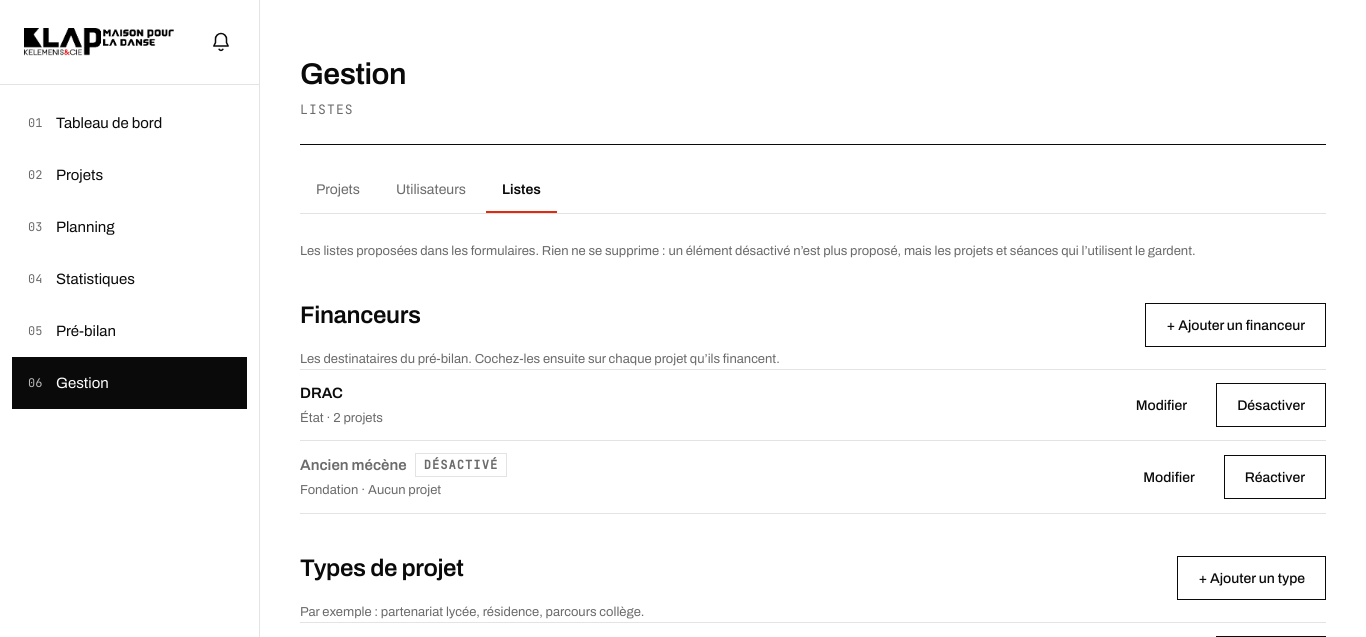
it: Gestion › Listes (#249) › ajoute un financeur, après les contrôles du formulaire
Click the button "+ Ajouter un financeur": (1236, 325) [1146, 303, 1326, 347]
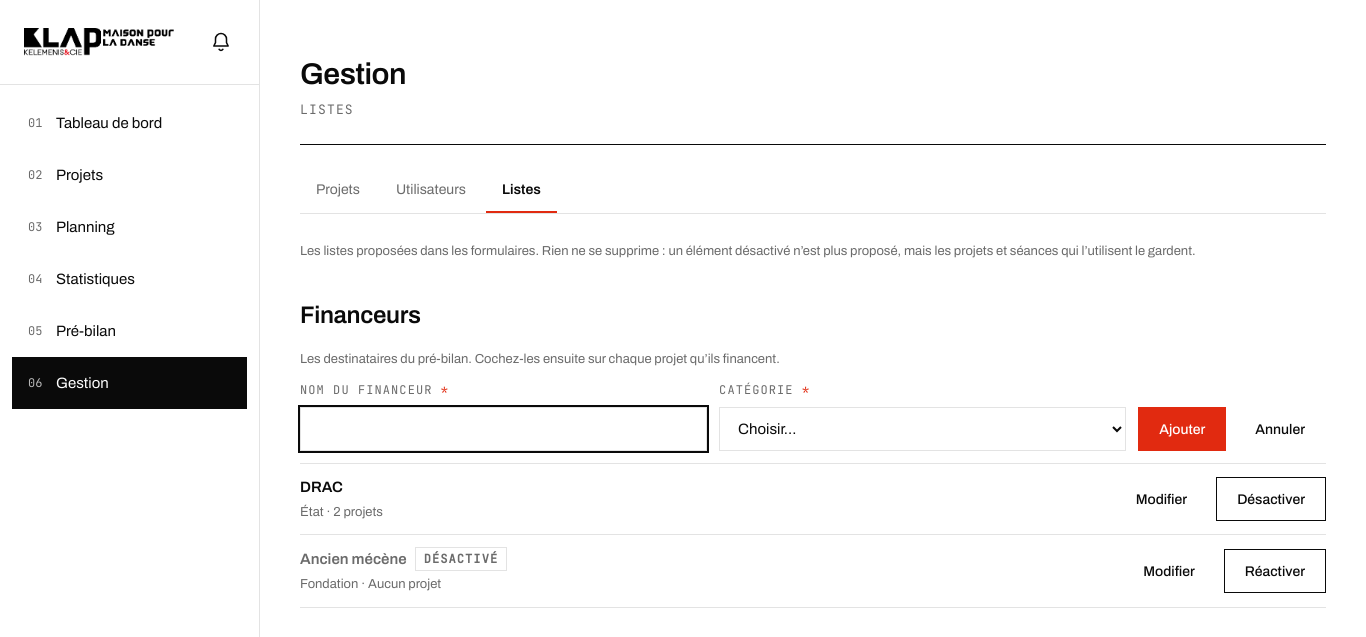
Click the button "Ajouter": (1182, 429) [1138, 407, 1226, 451]
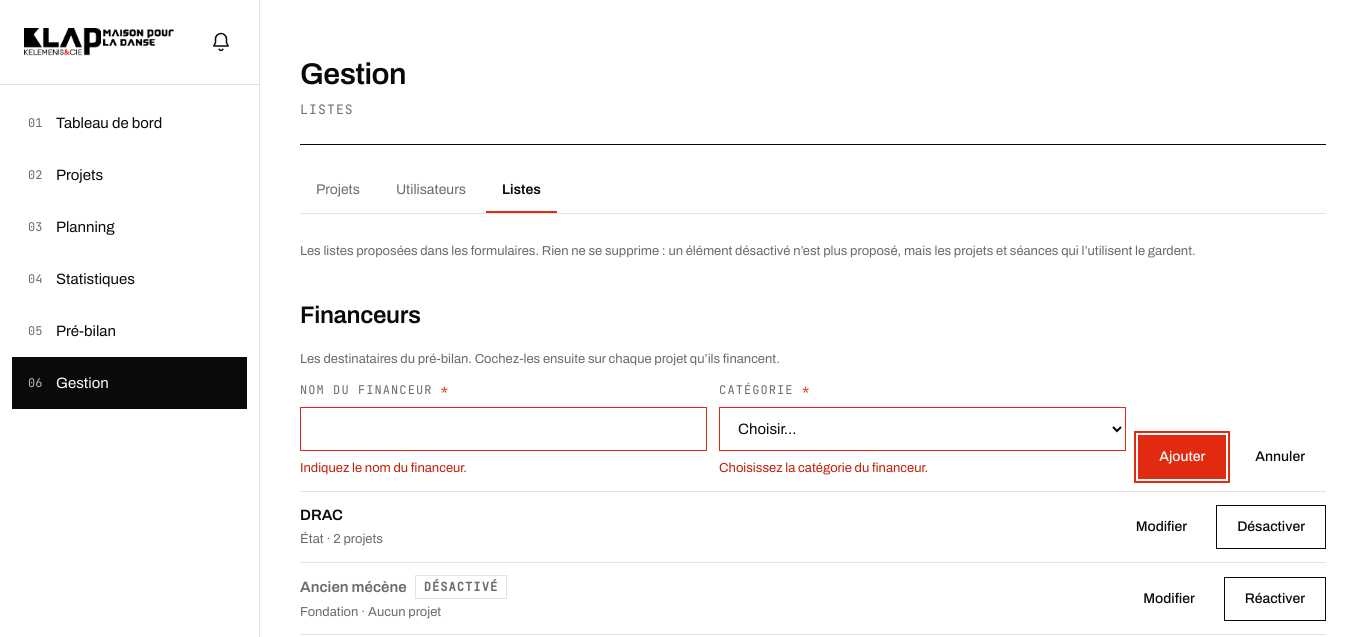
Check: the text "Indiquez le nom du financeur." is shown, box [300, 461, 467, 475]
Check: the text "Choisissez la catégorie du financeur." is shown, box [719, 461, 928, 475]
In the field labelled "Nom du financeur *": (504, 429) [300, 407, 707, 451], type "  Région Sud "
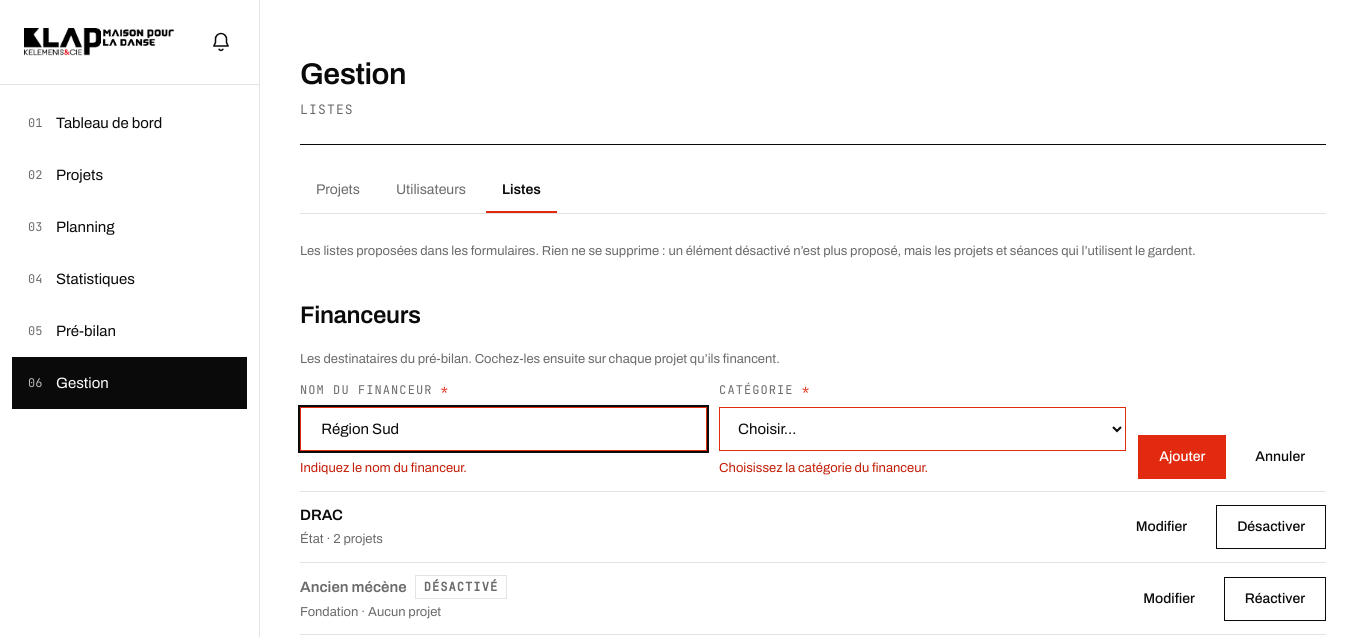
Select "Collectivité" in the dropdown labelled "Catégorie *": (923, 429) [719, 407, 1126, 451]
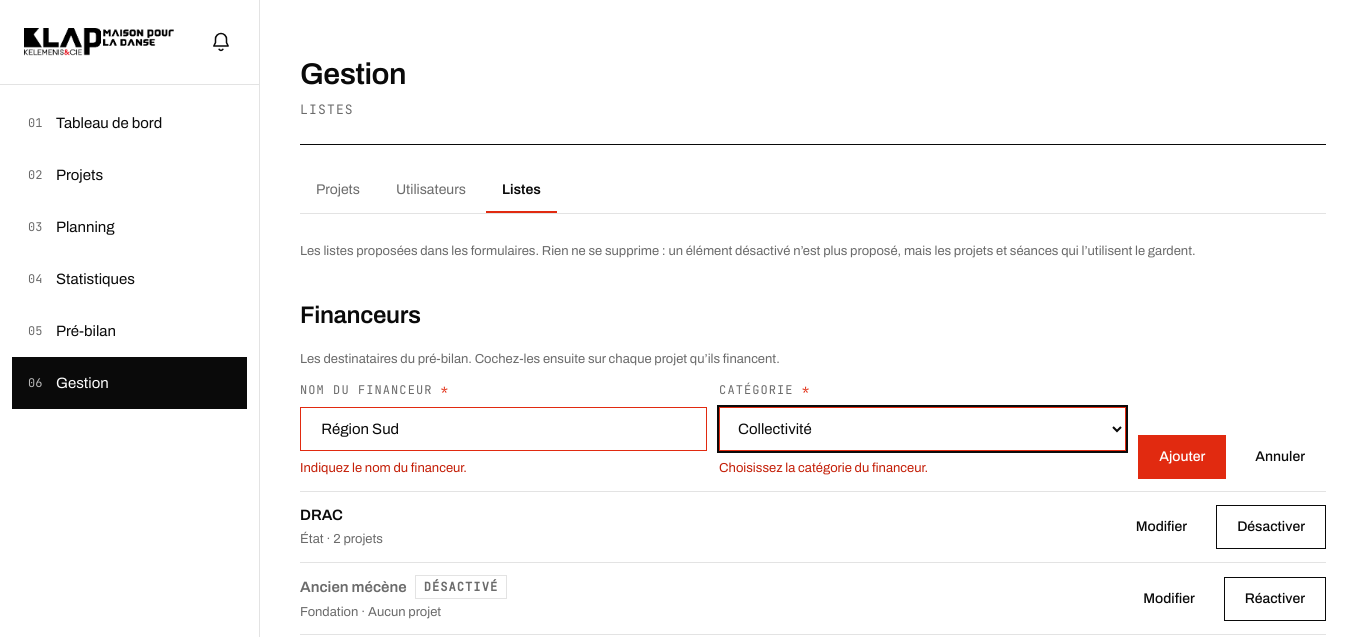
Click the button "Ajouter": (1182, 457) [1138, 435, 1226, 479]
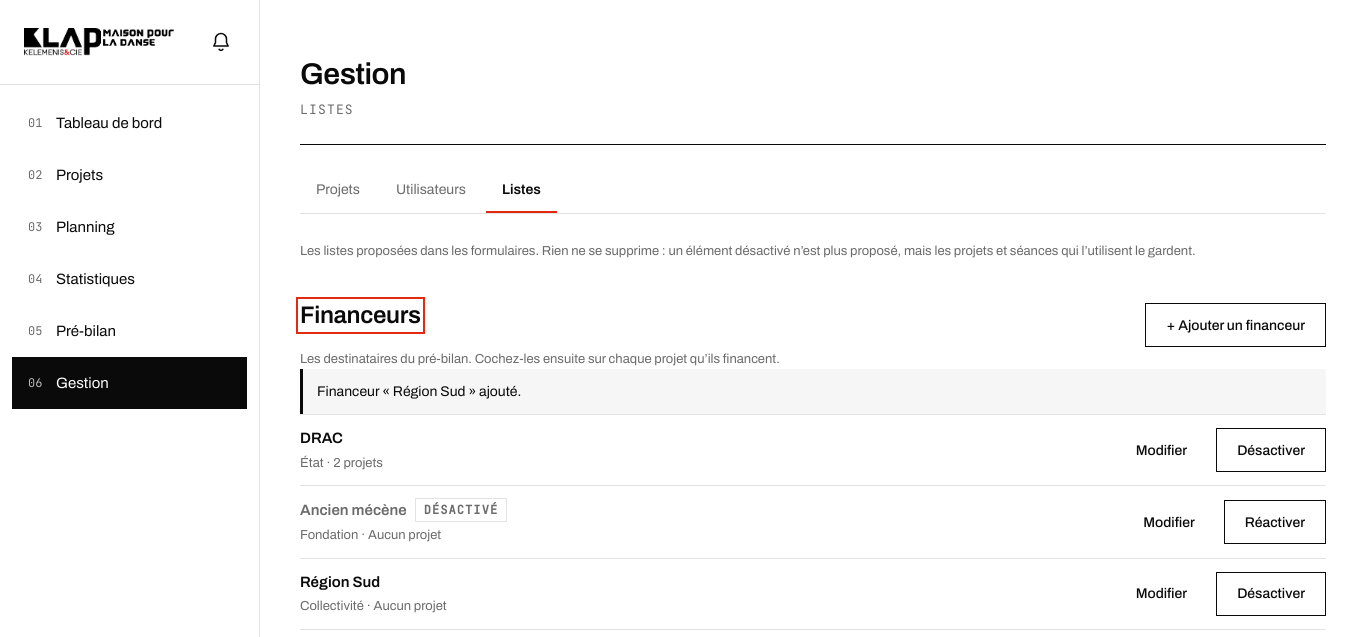
Check: the message reads "Financeur « Région Sud » ajouté.", box [317, 384, 521, 399]
Check: the text "Collectivité · Aucun projet" is shown, box [300, 597, 447, 617]
